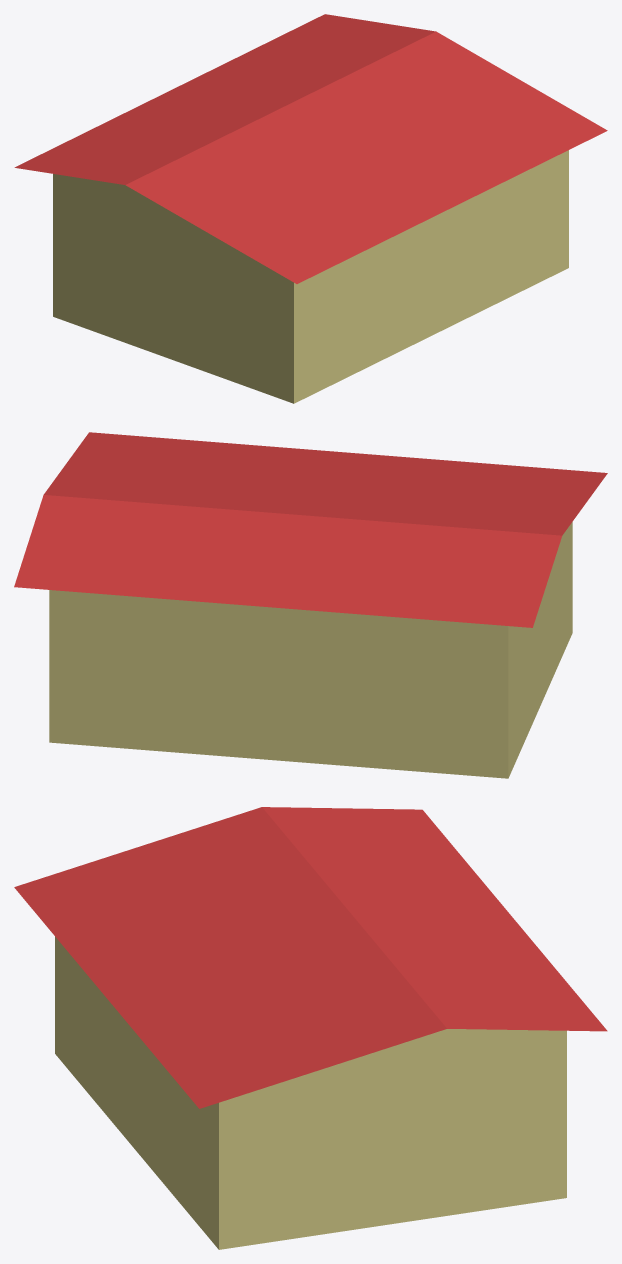
3 views of the same model, one above another, from view 1: azimuth 30°, elevation 25°; view 2: azimuth 150°, elevation 25°; view 3: azimuth 270°, elevation 25° (orthographic). The views are drawn at different scales.
Bounding box in the file's own units: 20.85 × 18.51 × 6.92.
